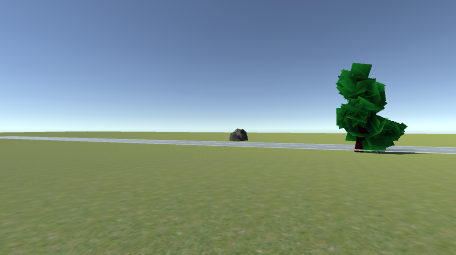rock: (229, 128, 250, 142)
tree: (335, 62, 410, 154)
